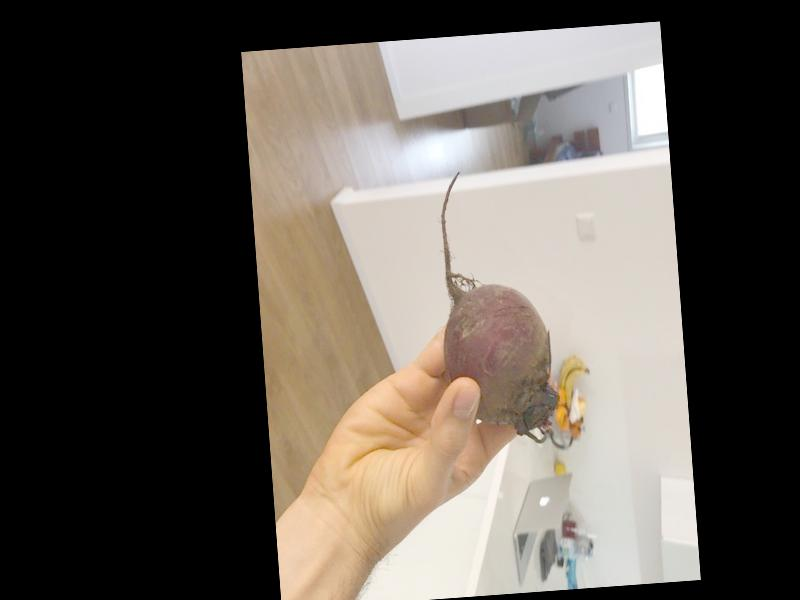Beet: (431, 164, 560, 448)
